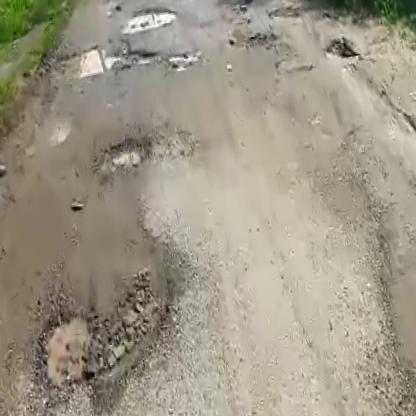pothole: (16, 263, 199, 411), (54, 35, 166, 80), (89, 132, 158, 178), (118, 4, 179, 38), (164, 48, 200, 71)
